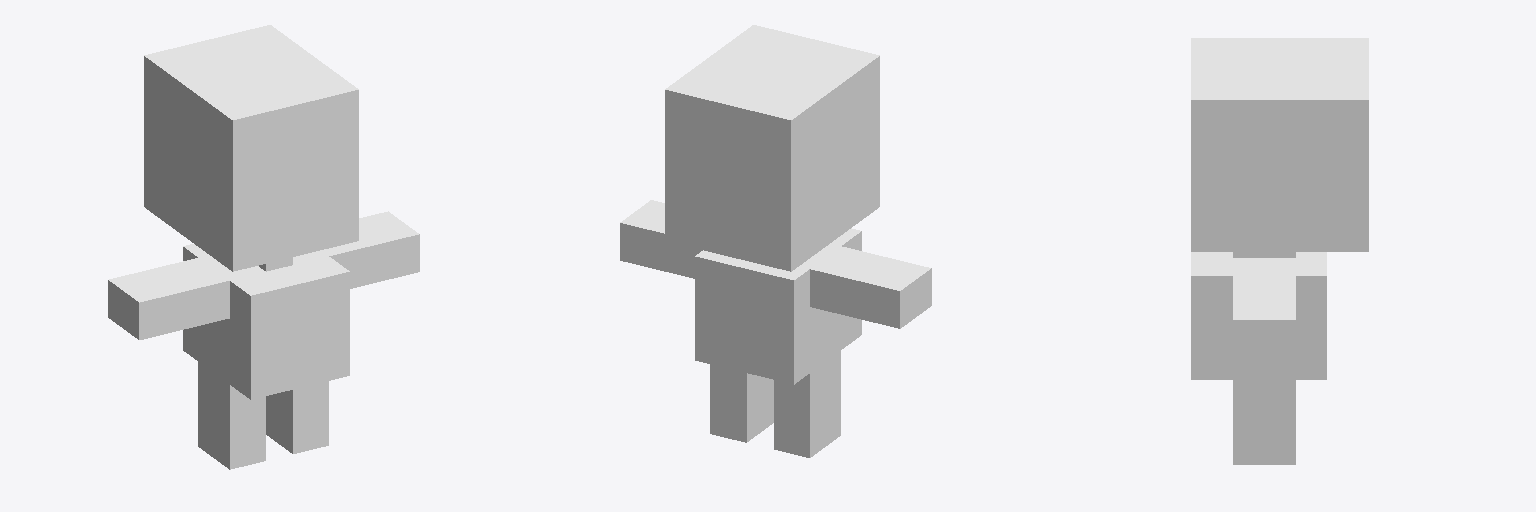
The model's file is player_hiroppe.vox.obj.
3 renders of one model, left to right at view 1: azimuth 30°, elevation 25°; view 2: azimuth 150°, elevation 25°; view 3: azimuth 270°, elevation 25°, orthographic.
Parts seen in each view (by area): view 1: object 1; view 2: object 1; view 3: object 1.
Boxes of the visible parts, box(x1,y1,x2,y2) form: object 1: box(108, 25, 419, 469); object 1: box(620, 25, 931, 457); object 1: box(1191, 38, 1368, 464).
Bounding box in the file's own units: 3.1 × 3.9 × 1.7.